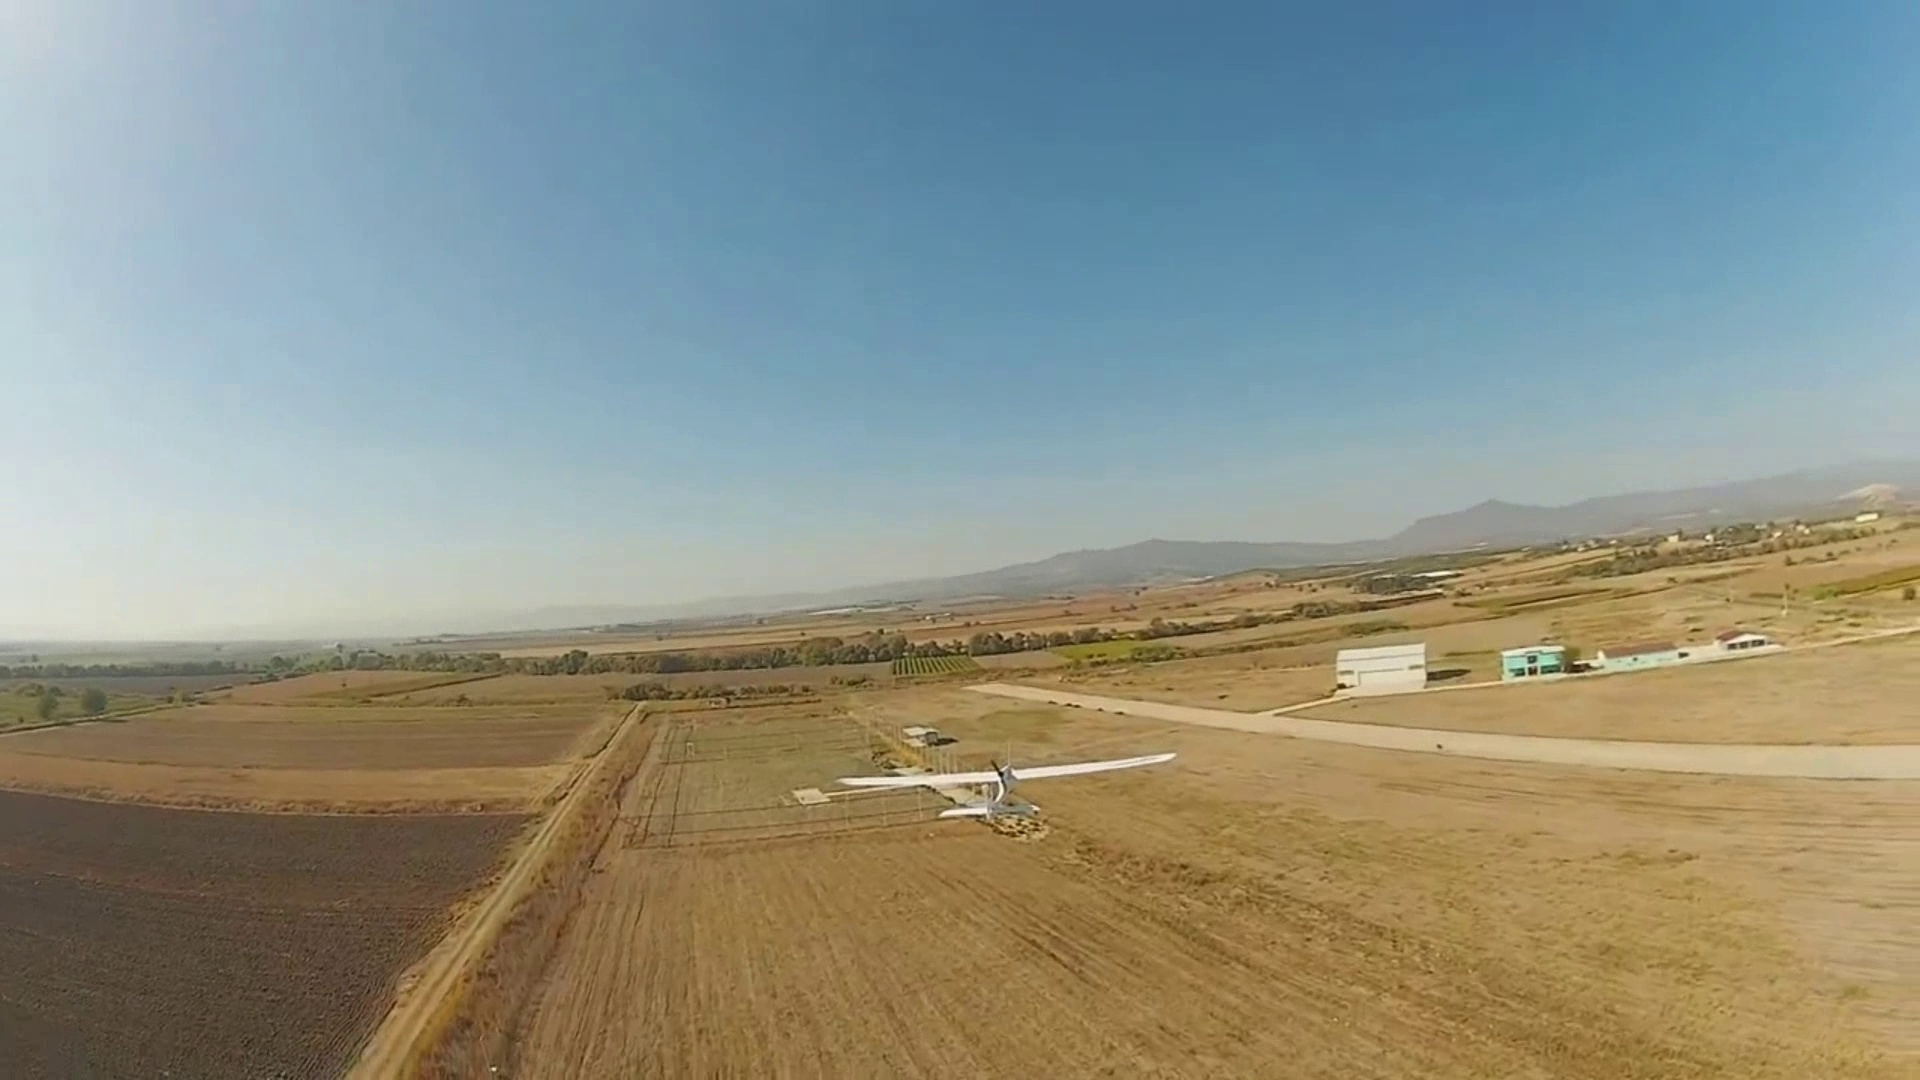airplane: (793, 732, 1180, 836)
